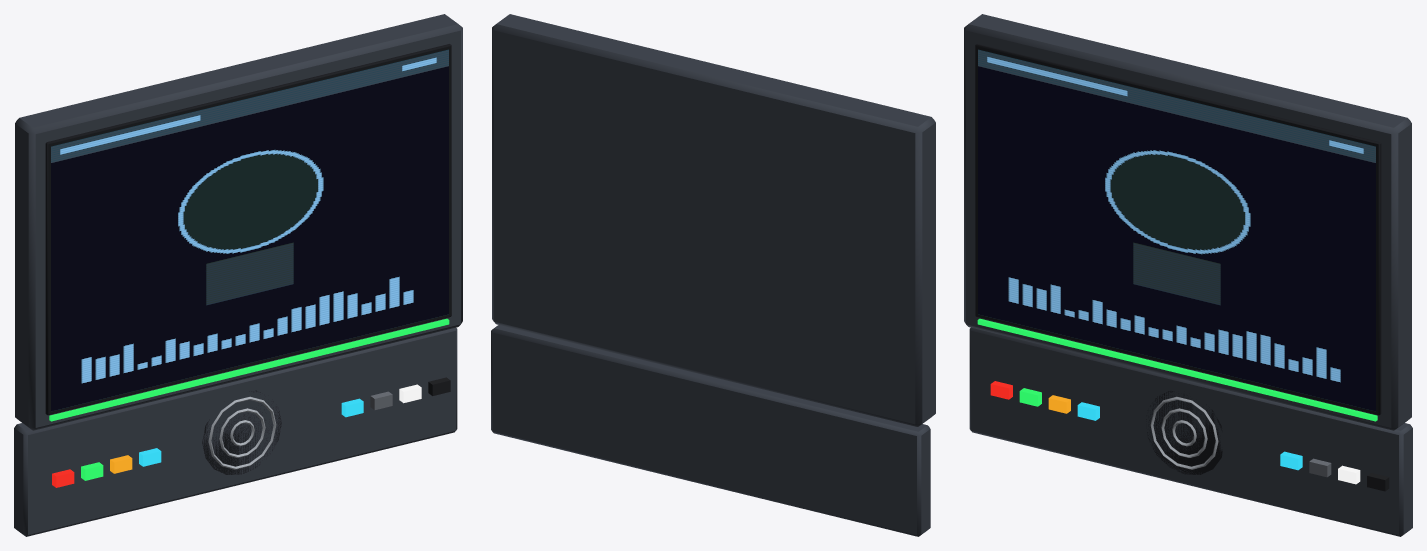
The model's file is display_comms_log_board.glb.
3 renders of one model, left to right at view 1: azimuth 30°, elevation 25°; view 2: azimuth 150°, elevation 25°; view 3: azimuth 330°, elevation 25°, orthographic.
Parts seen in each view (by area): view 1: display_comms_log_board; view 2: display_comms_log_board; view 3: display_comms_log_board.
Boxes of the visible parts, x1=… form: display_comms_log_board: x1=14, y1=14, x2=462, y2=536; display_comms_log_board: x1=491, y1=14, x2=935, y2=536; display_comms_log_board: x1=964, y1=14, x2=1412, y2=536.
Bounding box in the file's own units: 1.2 × 1.09 × 0.099.
Materials: 11 (1 with a texture image).
